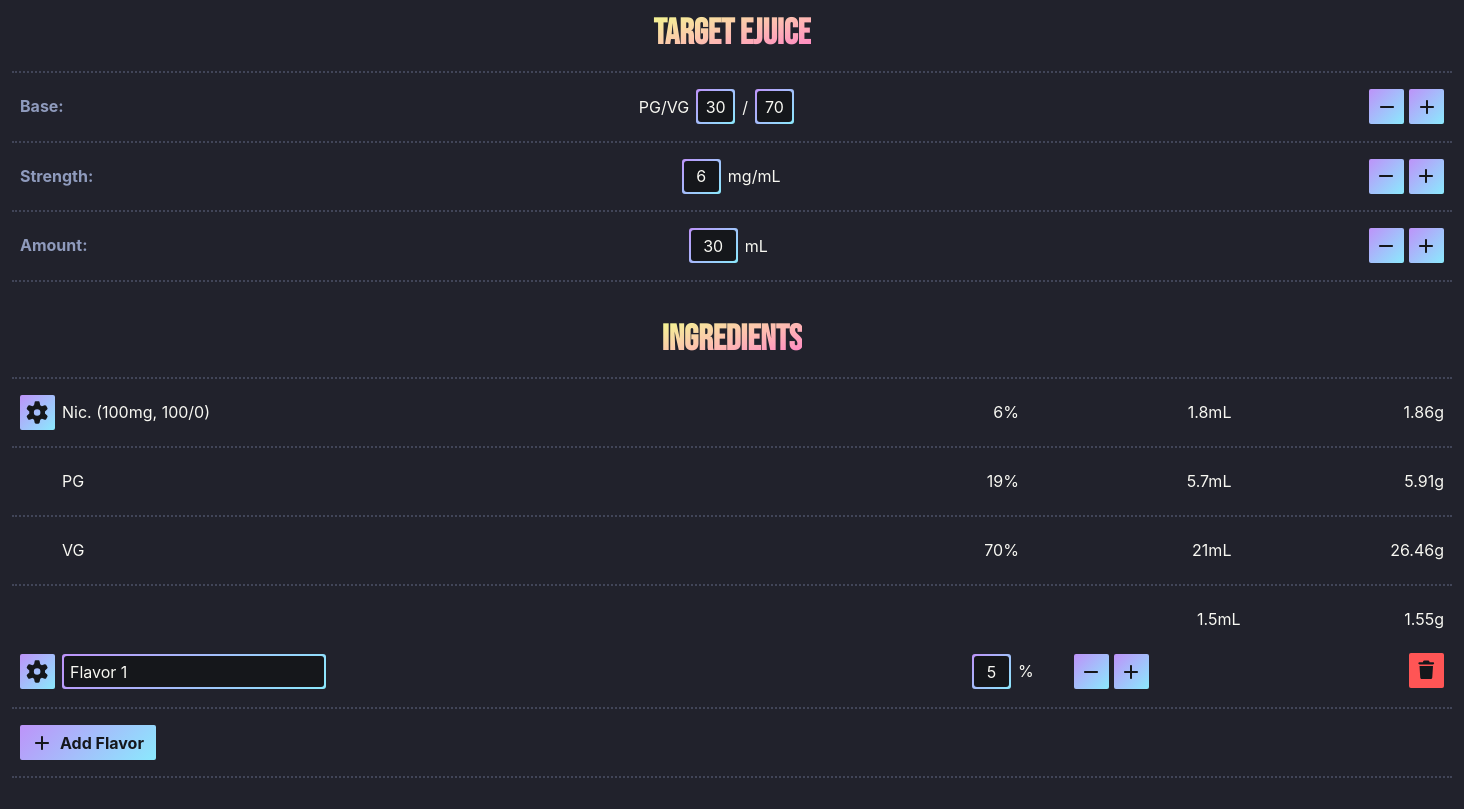
Test case: Flavor config › ratio number controls work correctly
The image size is (1464, 809).
What coordinates should you click on to do the following:
click the button with test id "flavor1ConfigBtn"
I would click on:
 (38, 672)
Its box is [20,654,55,689].
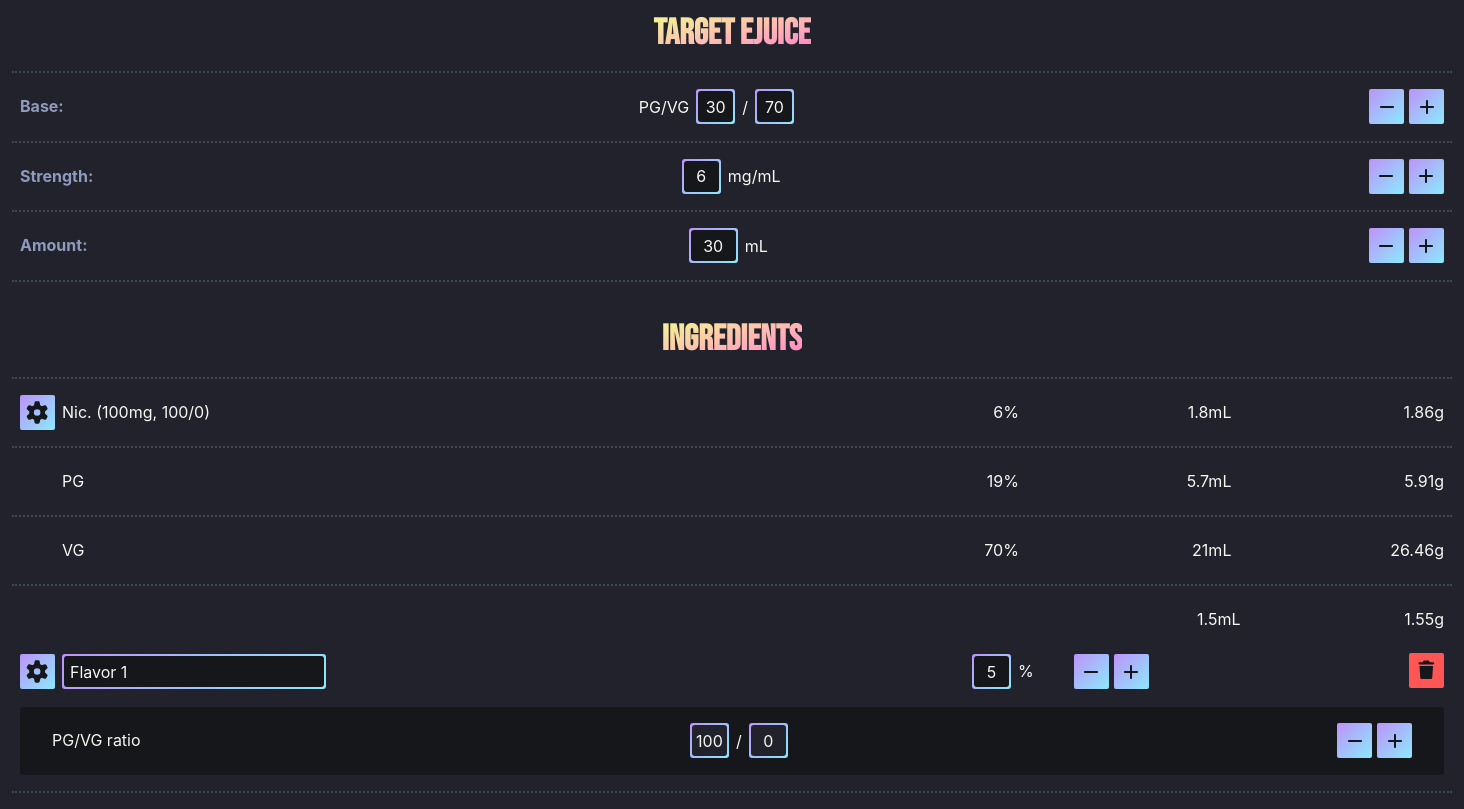
What coordinates should you click on to do the following:
click the button with test id "flavor1ConfigPgDecBtn"
I would click on:
 (1354, 740)
Its box is [1337,723,1372,758].
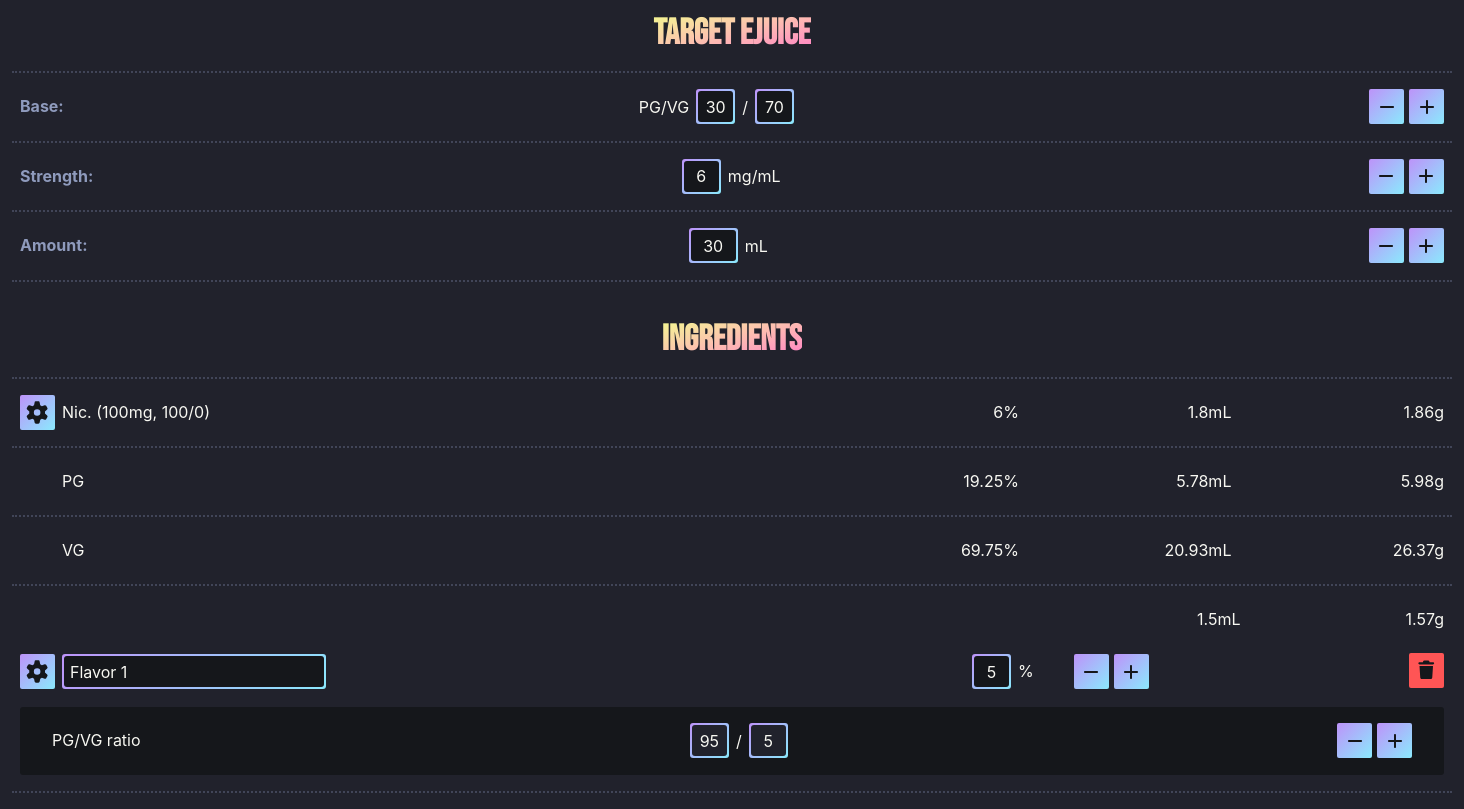
What coordinates should you click on to do the following:
click the button with test id "flavor1ConfigPgDecBtn"
I would click on:
 (1354, 740)
Its box is [1337,723,1372,758].
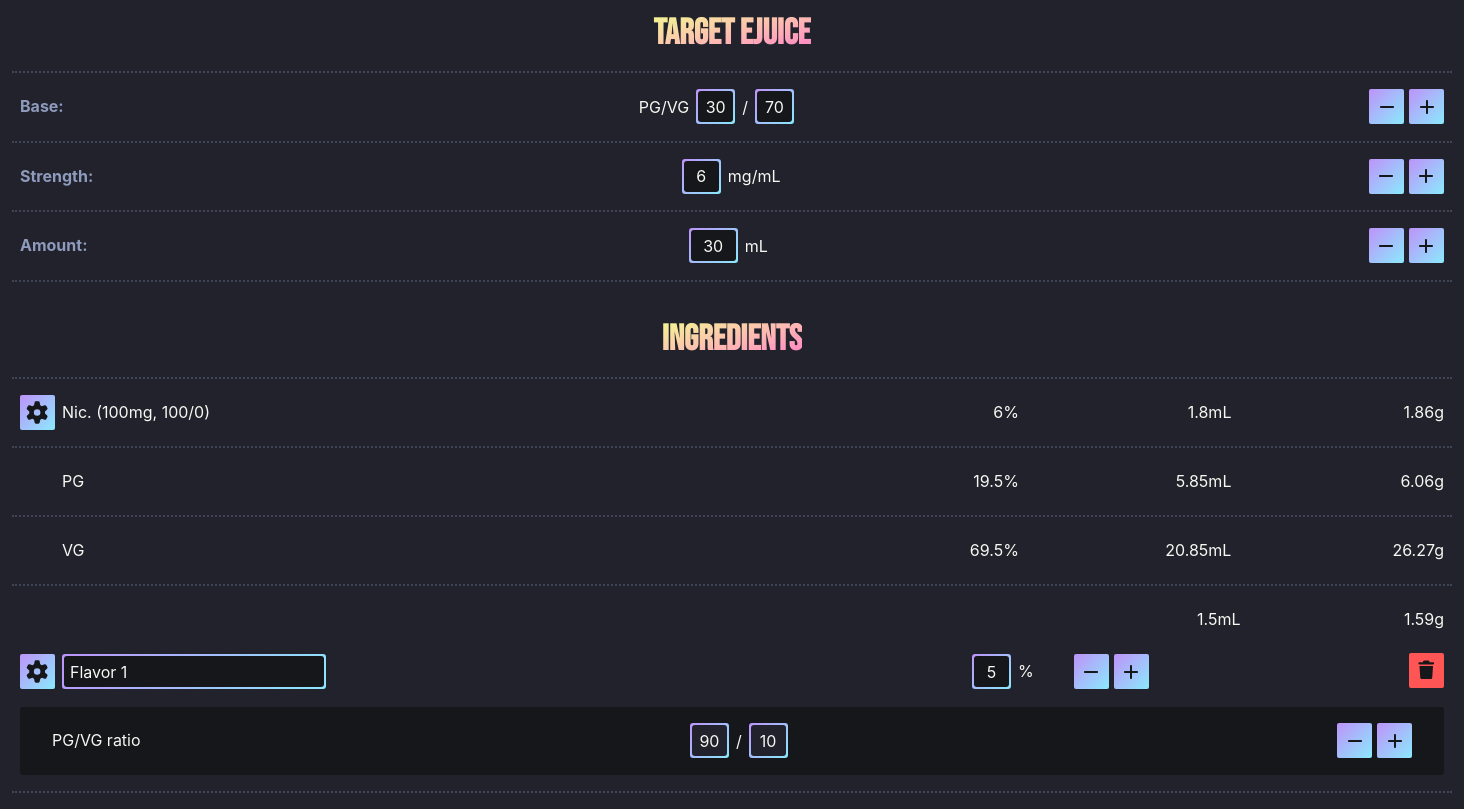
Now the number field with test id "flavor1ConfigPgInput" holds "90", box [692,725,727,756]
Now the number field with test id "flavor1ConfigVgInput" holds "10", box [751,725,786,756]
What coordinates should you click on to do the following:
click the button with test id "flavor1ConfigPgIncBtn"
I would click on:
 (1394, 740)
Its box is [1377,723,1412,758].
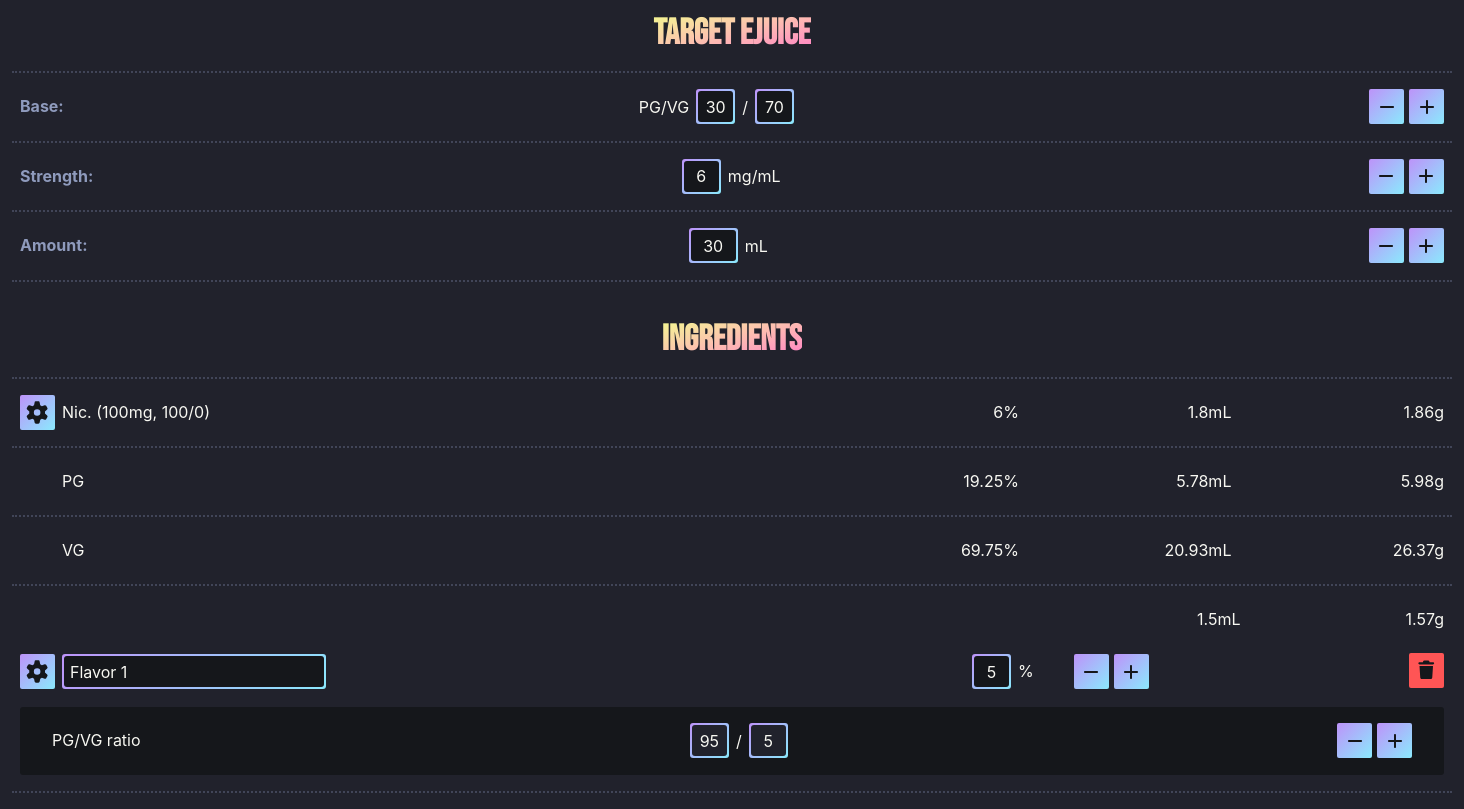
Now the number field with test id "flavor1ConfigPgInput" holds "95", box [692,725,727,756]
Now the number field with test id "flavor1ConfigVgInput" holds "5", box [751,725,786,756]
